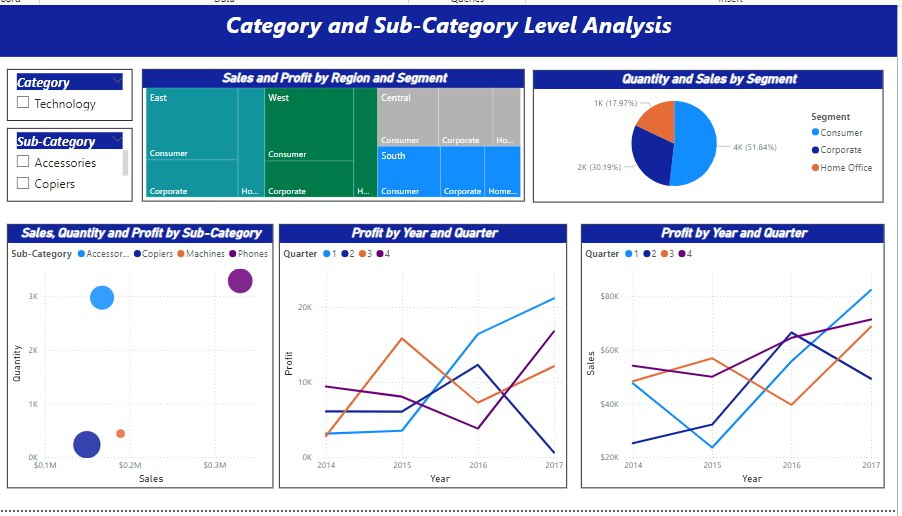

Layout of this report page (visuals, bound fields, positions):
{"tool":"powerbi","page":{"name":"Category & Sub-Category","canvas":[1280,720],"ordinal":2},"visuals":[{"type":"textbox","box":[10,0,280,280],"z":0},{"type":"textbox","box":[0,0,1280.3,73.7],"z":1000},{"type":"slicer","fields":{"Values":["Table.Category"]},"box":[10.5,90.8,178.9,73.7],"z":2000},{"type":"slicer","fields":{"Values":["Table.Sub-Category"]},"box":[10.5,175,178.9,105.3],"z":3000},{"type":"treemap","fields":{"Group":["Table.Region"],"Details":["Table.Segment"],"Values":["Sum(Table.Sales)"]},"box":[202.5,91.2,546.2,188.8],"z":4000},{"type":"pieChart","fields":{"Category":["Table.Segment"],"Y":["Sum(Table.Quantity)"]},"box":[761.2,92.5,500,188.8],"z":5000},{"type":"scatterChart","fields":{"Series":["Table.Sub-Category"],"X":["Sum(Table.Sales)"],"Y":["Sum(Table.Quantity)"],"Size":["Sum(Table.Profit)"]},"box":[10,312.9,380,377.1],"z":6000},{"type":"lineChart","title":"Profit by Year and Quarter","fields":{"Series":["Table.Quarter"],"Y":["Sum(Table.Profit)"],"Category":["Table.Year.Variation.Datumshierarchie.Jahr","Table.Year.Variation.Datumshierarchie.Quartal","Table.Year.Variation.Datumshierarchie.Monat","Table.Year.Variation.Datumshierarchie.Tag"]},"box":[398.6,312.9,411.4,377.1],"z":7000},{"type":"lineChart","title":"Profit by Year and Quarter","fields":{"Series":["Table.Quarter"],"Y":["Sum(Table.Sales)"],"Category":["Table.Year.Variation.Datumshierarchie.Jahr","Table.Year.Variation.Datumshierarchie.Quartal","Table.Year.Variation.Datumshierarchie.Monat","Table.Year.Variation.Datumshierarchie.Tag"]},"box":[828.6,312.9,432.9,377.1],"z":8000}]}

Visuals, with their boxes in screenshot pixels (x1, y1, x2, y2):
textbox: x1=9, y1=2, x2=204, y2=197
textbox: x1=2, y1=2, x2=892, y2=54
slicer - Table.Category: x1=10, y1=65, x2=134, y2=117
slicer - Table.Sub-Category: x1=10, y1=124, x2=134, y2=197
treemap - Table.Region x Table.Segment: x1=143, y1=66, x2=523, y2=197
pieChart - Table.Segment x Sum(Table.Quantity): x1=531, y1=67, x2=879, y2=198
scatterChart - Table.Sub-Category x Sum(Table.Sales): x1=9, y1=220, x2=273, y2=482
"Profit by Year and Quarter" lineChart: x1=279, y1=220, x2=565, y2=482
"Profit by Year and Quarter" lineChart: x1=578, y1=220, x2=879, y2=482
